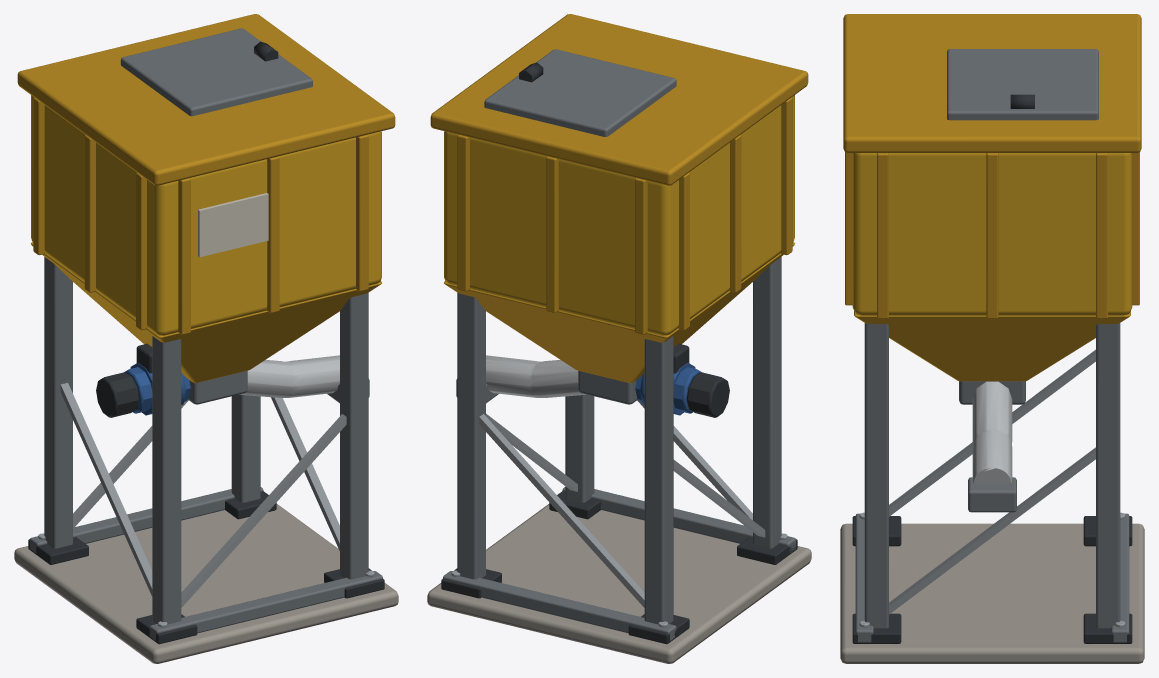
The model's file is pp_bin.glb.
3 views of the same model, side by side, from view 1: azimuth 30°, elevation 25°; view 2: azimuth 150°, elevation 25°; view 3: azimuth 270°, elevation 25° (orthographic). The views are drawn at different scales.
Parts seen in each view (by area): view 1: block.012, block.025, block.001, block.026, cyl.001, block.004, block.006, block.010, block.002, block, pipe, block.008 (+18 smaller); view 2: block.012, block.025, block.001, block.026, cyl.001, block.010, block.008, block.004, block.003, pipe, block.006, bar.001 (+17 smaller); view 3: block.012, block.001, block.025, cyl.001, block.026, block.006, block.008, pipe, bar.003, block.020, bar.002, block.016 (+11 smaller).
Part boxes in pixels (x1=…): block.012: x1=31, y1=95, x2=381, y2=335; block.025: x1=17, y1=14, x2=395, y2=185; block.001: x1=14, y1=504, x2=398, y2=663; block.026: x1=120, y1=28, x2=312, y2=116; cyl.001: x1=31, y1=242, x2=381, y2=383; block.004: x1=152, y1=336, x2=181, y2=624; block.006: x1=340, y1=292, x2=368, y2=579; block.010: x1=44, y1=257, x2=72, y2=548; block.002: x1=149, y1=571, x2=382, y2=640; block: x1=198, y1=193, x2=268, y2=257; pipe: x1=239, y1=355, x2=339, y2=397; block.008: x1=231, y1=394, x2=260, y2=502; block.012: x1=444, y1=95, x2=794, y2=335; block.025: x1=430, y1=14, x2=808, y2=185; block.001: x1=427, y1=504, x2=811, y2=663; block.026: x1=484, y1=49, x2=676, y2=136; cyl.001: x1=444, y1=242, x2=794, y2=383; block.010: x1=644, y1=336, x2=673, y2=624; block.008: x1=457, y1=292, x2=485, y2=579; block.004: x1=753, y1=257, x2=781, y2=548; block.003: x1=443, y1=571, x2=676, y2=640; pipe: x1=486, y1=355, x2=586, y2=397; block.006: x1=565, y1=394, x2=594, y2=502; bar.001: x1=479, y1=414, x2=644, y2=607; block.012: x1=852, y1=153, x2=1132, y2=315; block.001: x1=840, y1=523, x2=1144, y2=663; block.025: x1=843, y1=14, x2=1141, y2=152; cyl.001: x1=854, y1=311, x2=1130, y2=381; block.026: x1=947, y1=49, x2=1098, y2=120; block.006: x1=864, y1=323, x2=888, y2=628; block.008: x1=1096, y1=323, x2=1120, y2=628; pipe: x1=972, y1=381, x2=1012, y2=483; bar.003: x1=889, y1=447, x2=1095, y2=614; block.020: x1=986, y1=153, x2=998, y2=318; bar.002: x1=889, y1=349, x2=1095, y2=516; block.016: x1=877, y1=153, x2=888, y2=318.
Bounding box in the file's own units: 1.12 × 1.98 × 1.
